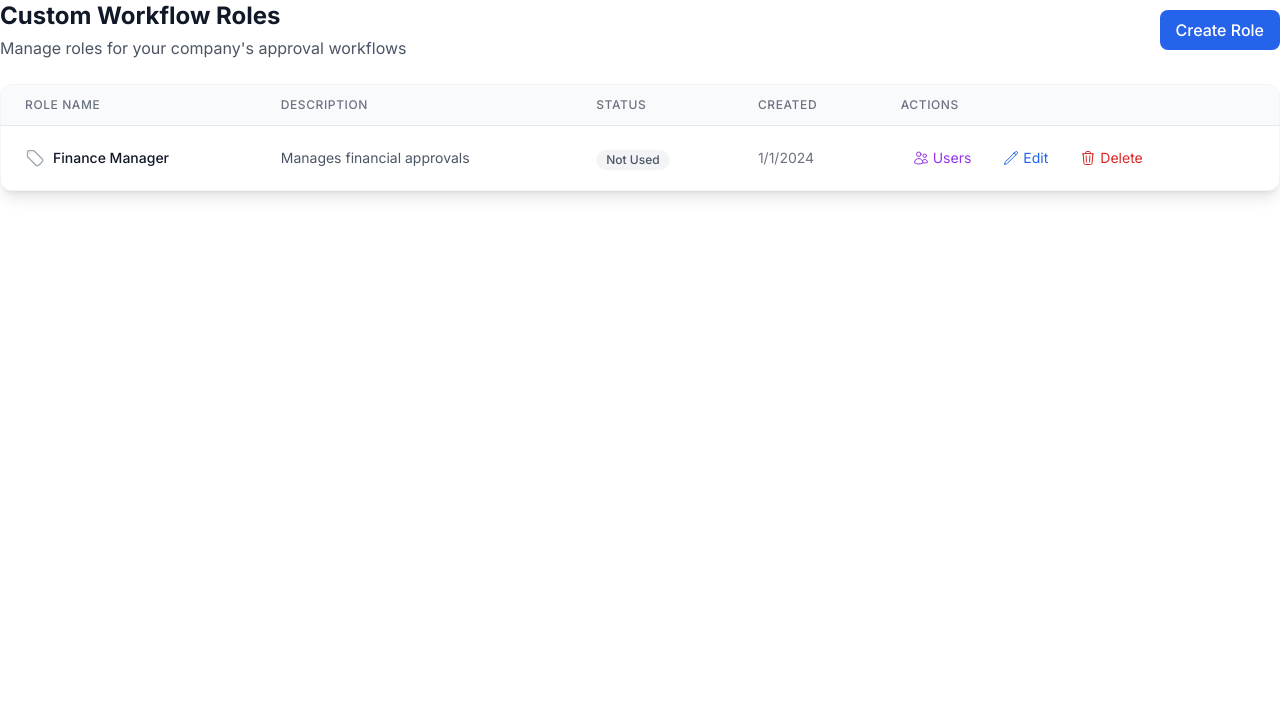
Scenario: RoleManagement - User Assignment › should display message when no users are assigned
Expected: the text "Finance Manager" is shown, [53,148,169,168]
Click the button "Users" at (942, 158), box [901,142,983,174]
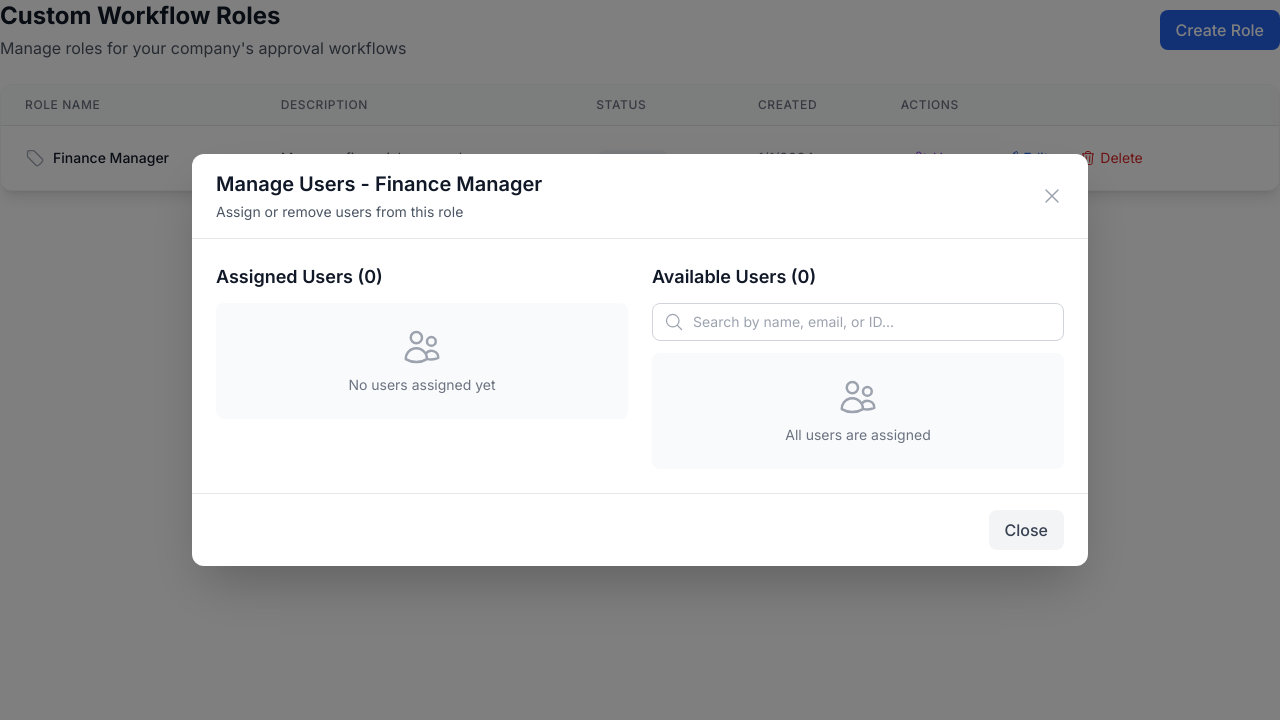
Now the text "No users assigned yet" is shown, box [348,376,496,393]
